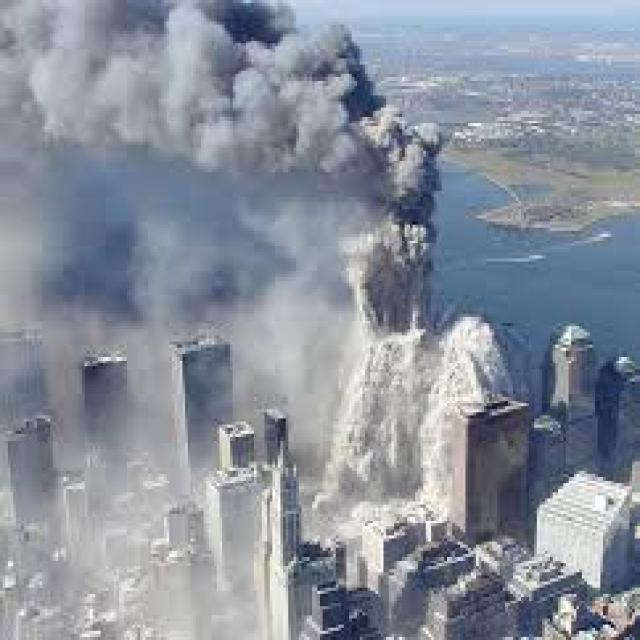smoke: (14, 0, 484, 491)
